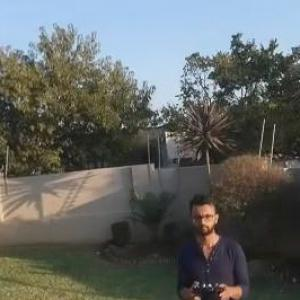follow: (173, 188, 256, 299)
